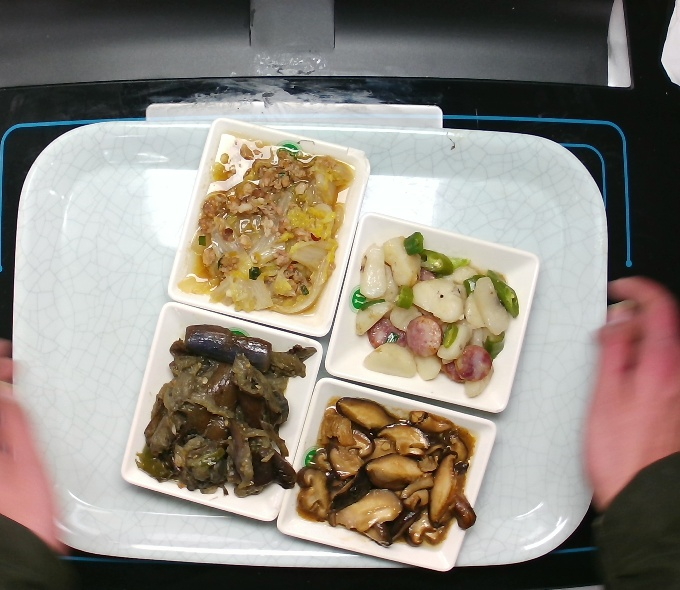wcq-MaTiGuo: (346, 228, 524, 402)
wcq-MoGu: (290, 389, 488, 557)
wcq-QieZi: (130, 317, 321, 502)
wcq-RouMoBaiCai: (173, 126, 360, 321)
